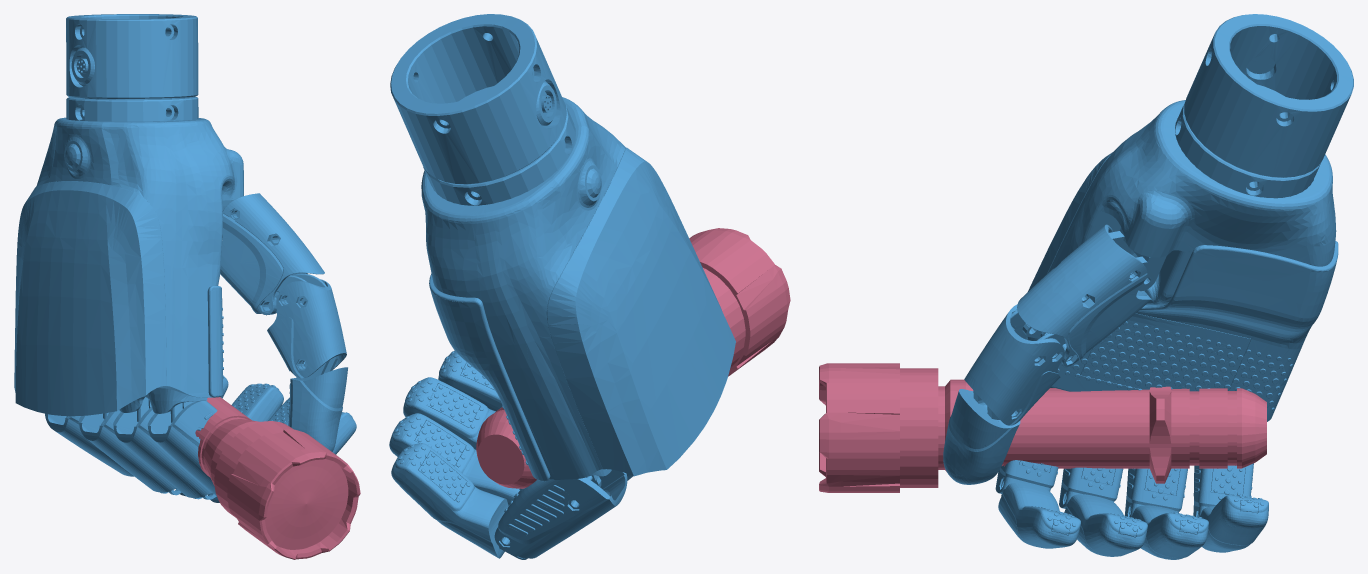
3 renders of one model, left to right at view 1: azimuth 30°, elevation 25°; view 2: azimuth 150°, elevation 25°; view 3: azimuth 270°, elevation 25°, orthographic. The views are drawn at different scales.
Visible parts, largest first — view 1: 3; view 2: 3; view 3: 3.
Part boxes in pixels (box(x1,y1,x2,y2)): 3: box(14, 14, 360, 559); 3: box(389, 14, 790, 559); 3: box(819, 14, 1353, 559).
Size of the model in its own units: 0.1155 by 0.1914 by 0.1785.
